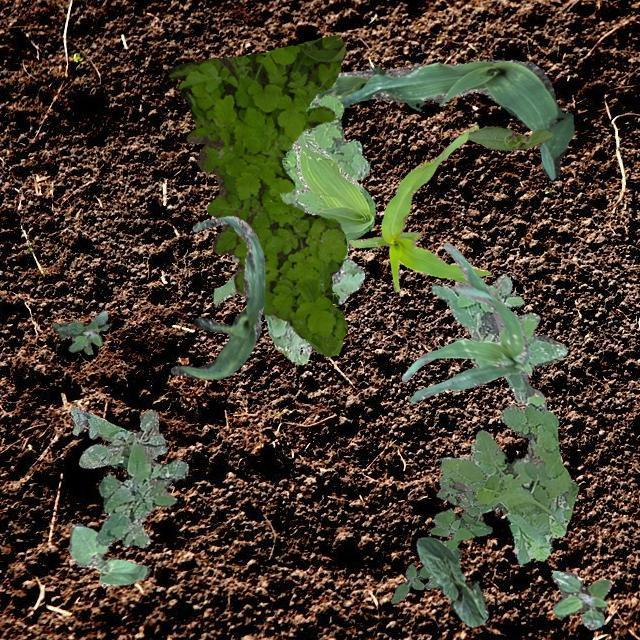crop: (310, 58, 572, 178), (348, 124, 490, 290), (401, 242, 532, 402), (170, 214, 264, 378), (416, 536, 488, 626), (68, 522, 148, 584), (466, 126, 552, 150)
weed: (168, 34, 346, 356), (212, 128, 374, 304), (264, 94, 368, 364), (438, 402, 578, 564), (432, 272, 566, 408), (94, 409, 188, 546), (424, 474, 491, 588), (70, 406, 166, 468), (552, 570, 610, 628), (52, 310, 108, 354), (390, 564, 430, 602)
